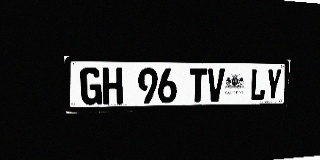6: (158, 68, 177, 103)
9: (138, 68, 158, 104)
G: (80, 67, 102, 105)
H: (102, 67, 123, 104)
L: (249, 68, 267, 101)
T: (189, 68, 207, 102)
V: (207, 68, 225, 102)
Y: (265, 69, 282, 100)
